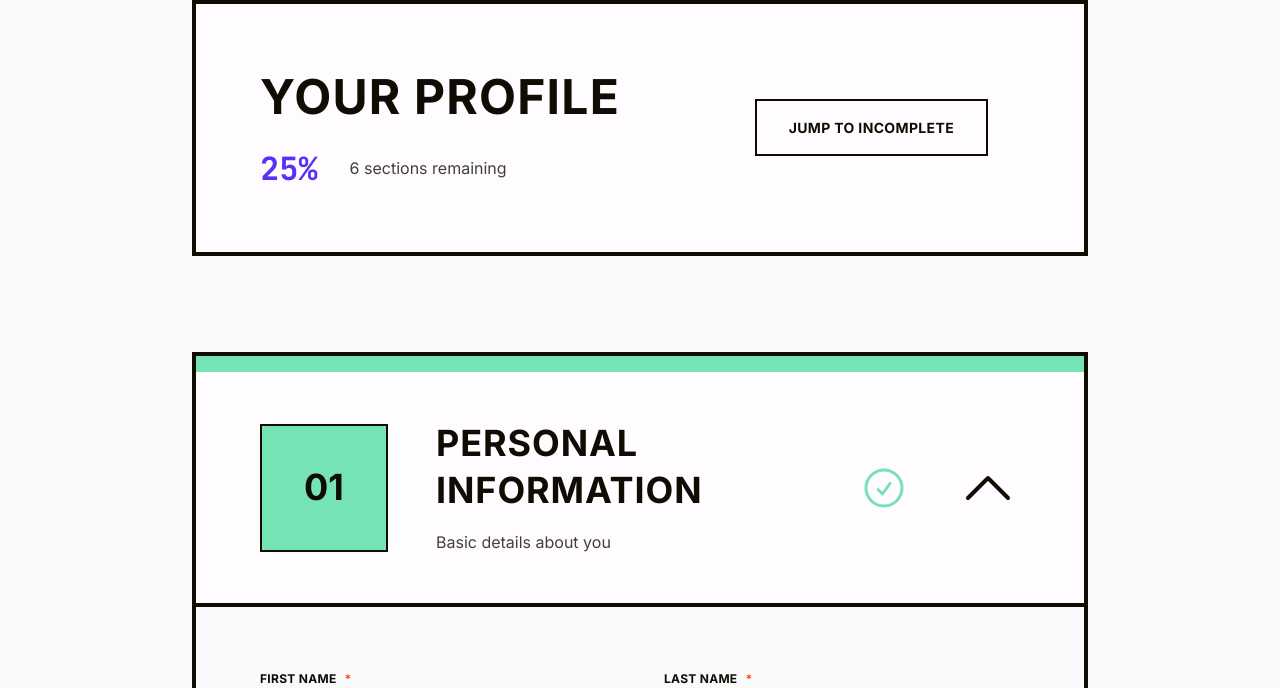
Scenario: ProfileFormAccordion › Jump to Incomplete Button › should skip to next incomplete section when personal information is complete
Click the button "JUMP TO INCOMPLETE".
click(871, 128)  # box x1=755 y1=100 x2=988 y2=156
(page scrolled)
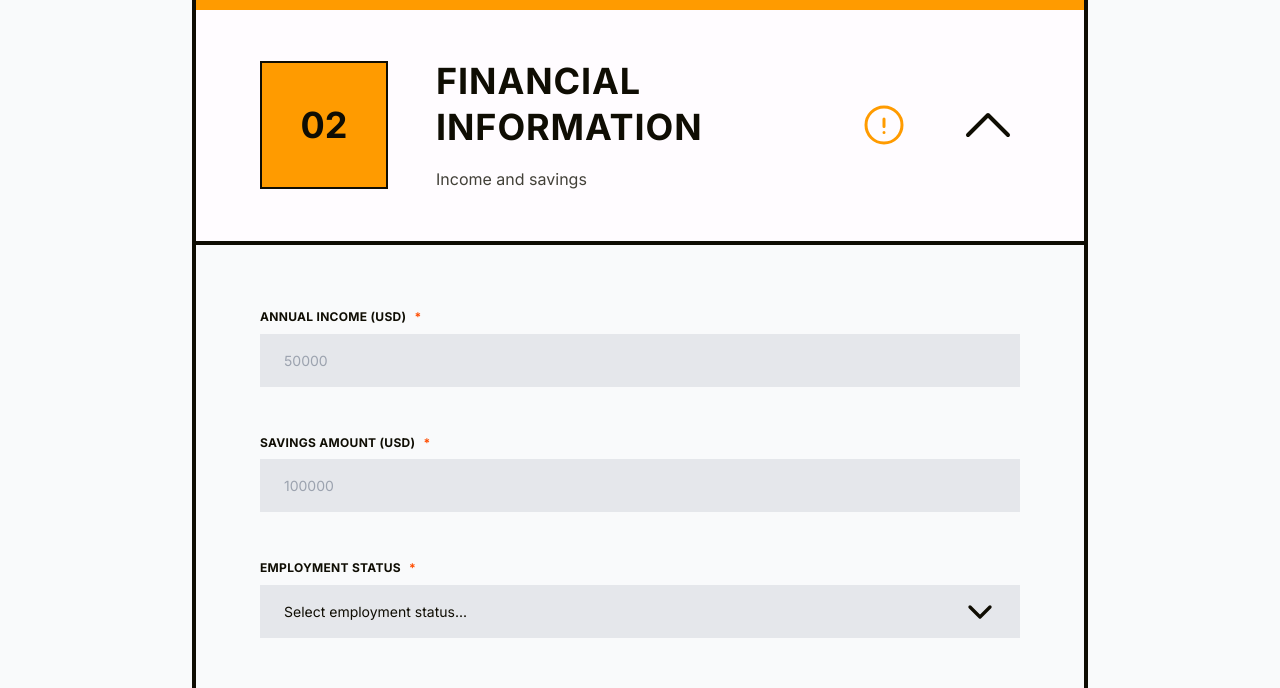
Check: the number field labelled "Annual Income (USD)*" is shown, box x1=260 y1=334 x2=1020 y2=386
